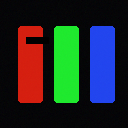3 line_h: (26, 37, 48, 43)
